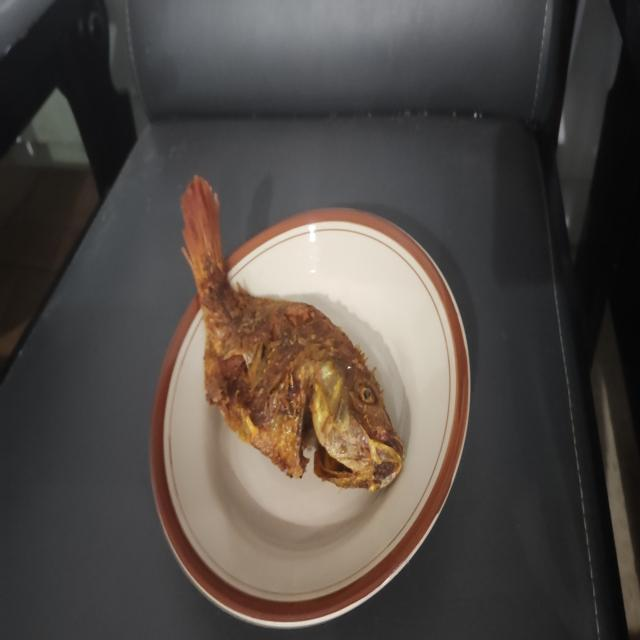ikan_mujair: (181, 175, 403, 490)
